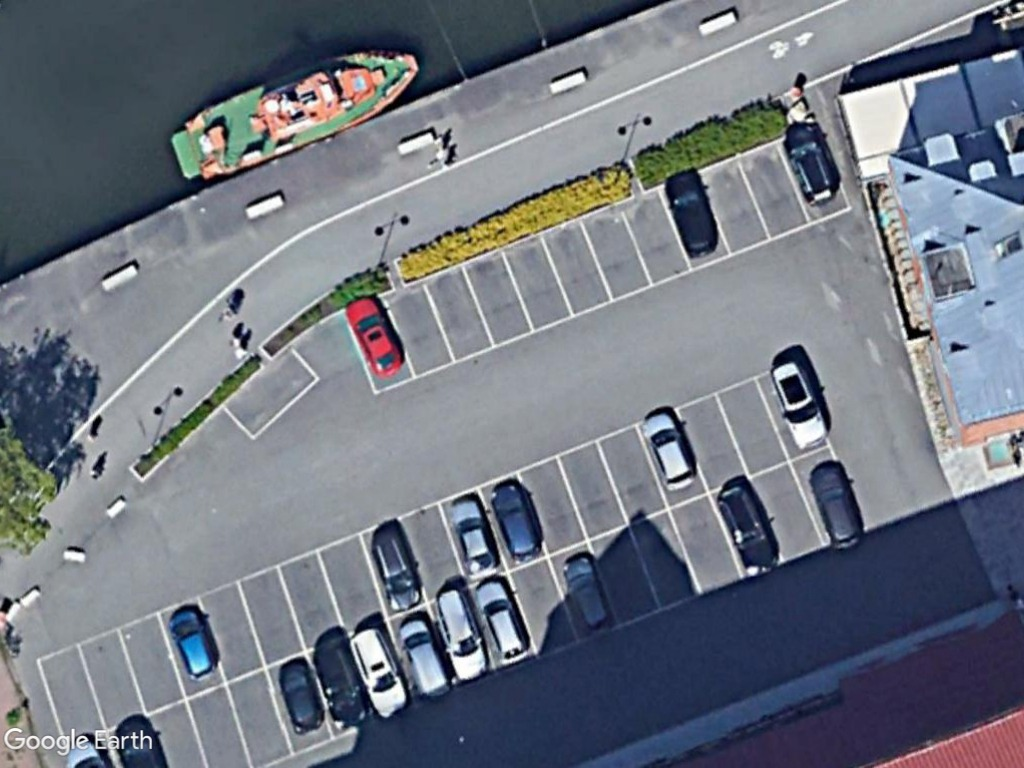boat: (160, 41, 428, 187)
car: (764, 352, 837, 452), (715, 481, 788, 577), (427, 577, 491, 686), (339, 288, 410, 386), (347, 621, 415, 720), (550, 550, 620, 643), (661, 166, 727, 262), (639, 405, 707, 495), (473, 570, 536, 667), (807, 461, 870, 554), (362, 525, 428, 613), (443, 492, 504, 587), (784, 114, 843, 212), (487, 475, 547, 567), (273, 657, 334, 743), (394, 614, 453, 702), (166, 604, 223, 686)
